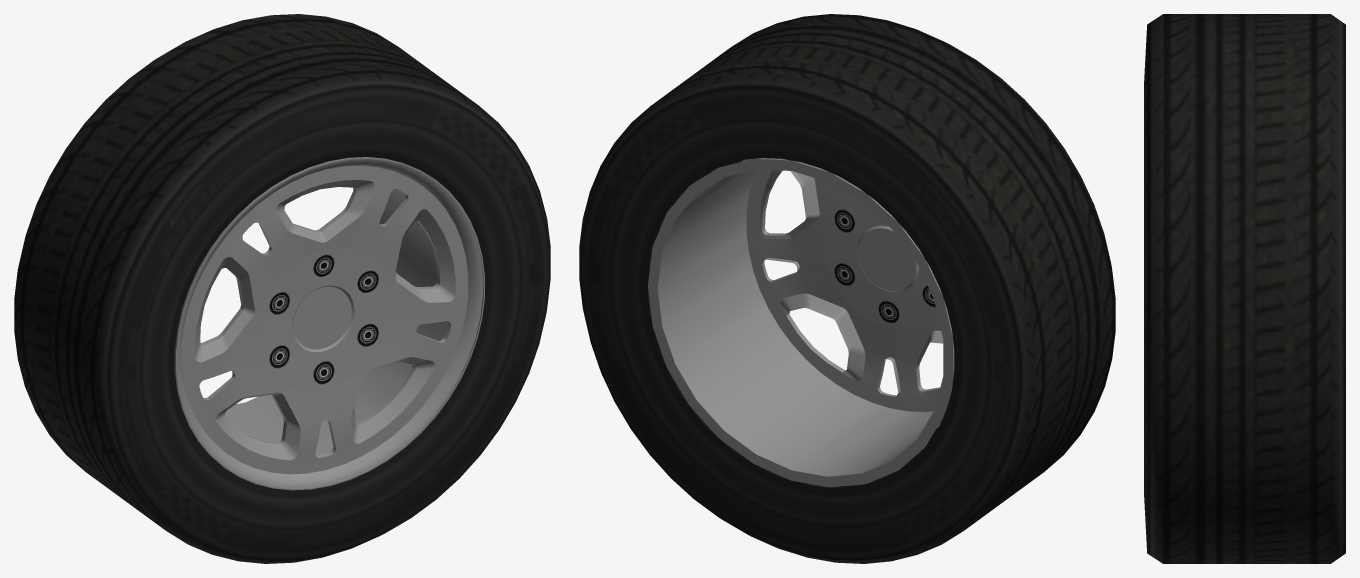
3 views of the same model, side by side, from view 1: azimuth 30°, elevation 25°; view 2: azimuth 150°, elevation 25°; view 3: azimuth 270°, elevation 25° (orthographic). The views are drawn at different scales.
Parts seen in each view (by area): view 1: U803_1A_901B_R_U803_1A_901B_R_2_DM, U803_1A_901B_R_1_DaS_U803_1A_901B_R, U803_1A_901B_R_U803_1A_901B_R_3_D; view 2: U803_1A_901B_R_U803_1A_901B_R_2_DM, U803_1A_901B_R_1_DaS_U803_1A_901B_R, U803_1A_901B_R_U803_1A_901B_R_3_D; view 3: U803_1A_901B_R_U803_1A_901B_R_2_DM.
Part boxes in pixels (x1=…): U803_1A_901B_R_U803_1A_901B_R_2_DM: x1=14, y1=14, x2=550, y2=563; U803_1A_901B_R_1_DaS_U803_1A_901B_R: x1=174, y1=157, x2=484, y2=490; U803_1A_901B_R_U803_1A_901B_R_3_D: x1=269, y1=254, x2=379, y2=384; U803_1A_901B_R_U803_1A_901B_R_2_DM: x1=579, y1=14, x2=1115, y2=563; U803_1A_901B_R_1_DaS_U803_1A_901B_R: x1=648, y1=158, x2=954, y2=487; U803_1A_901B_R_U803_1A_901B_R_3_D: x1=834, y1=209, x2=935, y2=322; U803_1A_901B_R_U803_1A_901B_R_2_DM: x1=1144, y1=14, x2=1345, y2=563.
Bounding box in the file's own units: 70.63 × 70.77 × 25.94.
